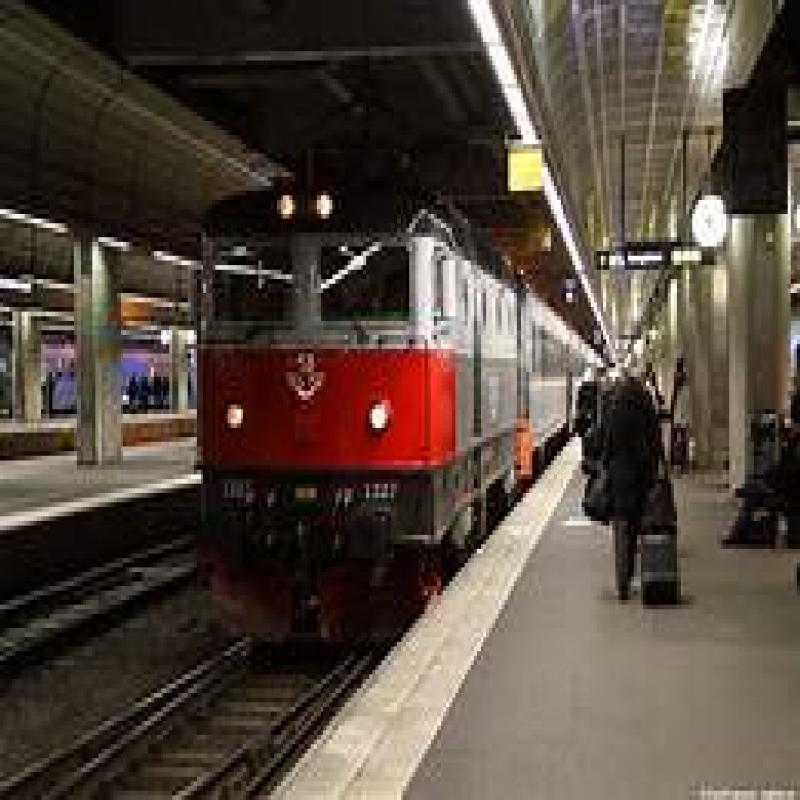train: (158, 150, 555, 578)
